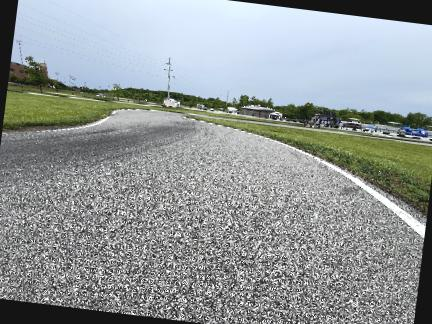Grass: (193, 117, 431, 214), (3, 92, 213, 129)
Lane: (0, 110, 423, 323)
